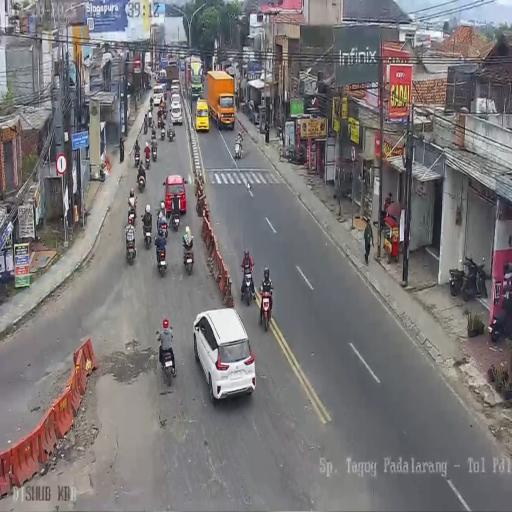car: (193, 307, 257, 404), (195, 99, 210, 132), (153, 84, 164, 106), (170, 106, 182, 126), (170, 91, 181, 110)
motorcycle: (466, 254, 489, 300), (158, 334, 176, 386), (258, 287, 273, 331), (490, 306, 508, 342), (240, 267, 255, 307), (449, 264, 465, 296), (182, 236, 195, 275), (155, 237, 168, 274), (125, 224, 137, 264), (284, 145, 305, 165), (142, 216, 152, 248), (158, 215, 168, 243), (171, 205, 180, 232), (127, 198, 137, 222), (137, 168, 146, 191), (234, 138, 242, 160), (167, 123, 175, 141), (144, 150, 151, 170), (134, 146, 140, 168), (259, 117, 266, 135), (151, 142, 157, 162), (143, 113, 148, 134), (160, 124, 166, 140), (162, 105, 168, 120), (151, 122, 156, 140), (157, 112, 162, 129), (148, 111, 152, 128)
truck: (206, 70, 236, 132), (186, 56, 202, 98), (166, 58, 180, 88), (144, 51, 151, 72), (158, 69, 167, 83)
